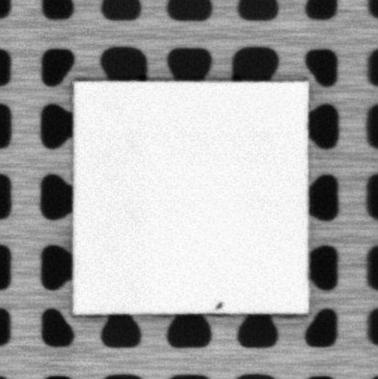DIE_INK: (214, 299, 226, 310)
